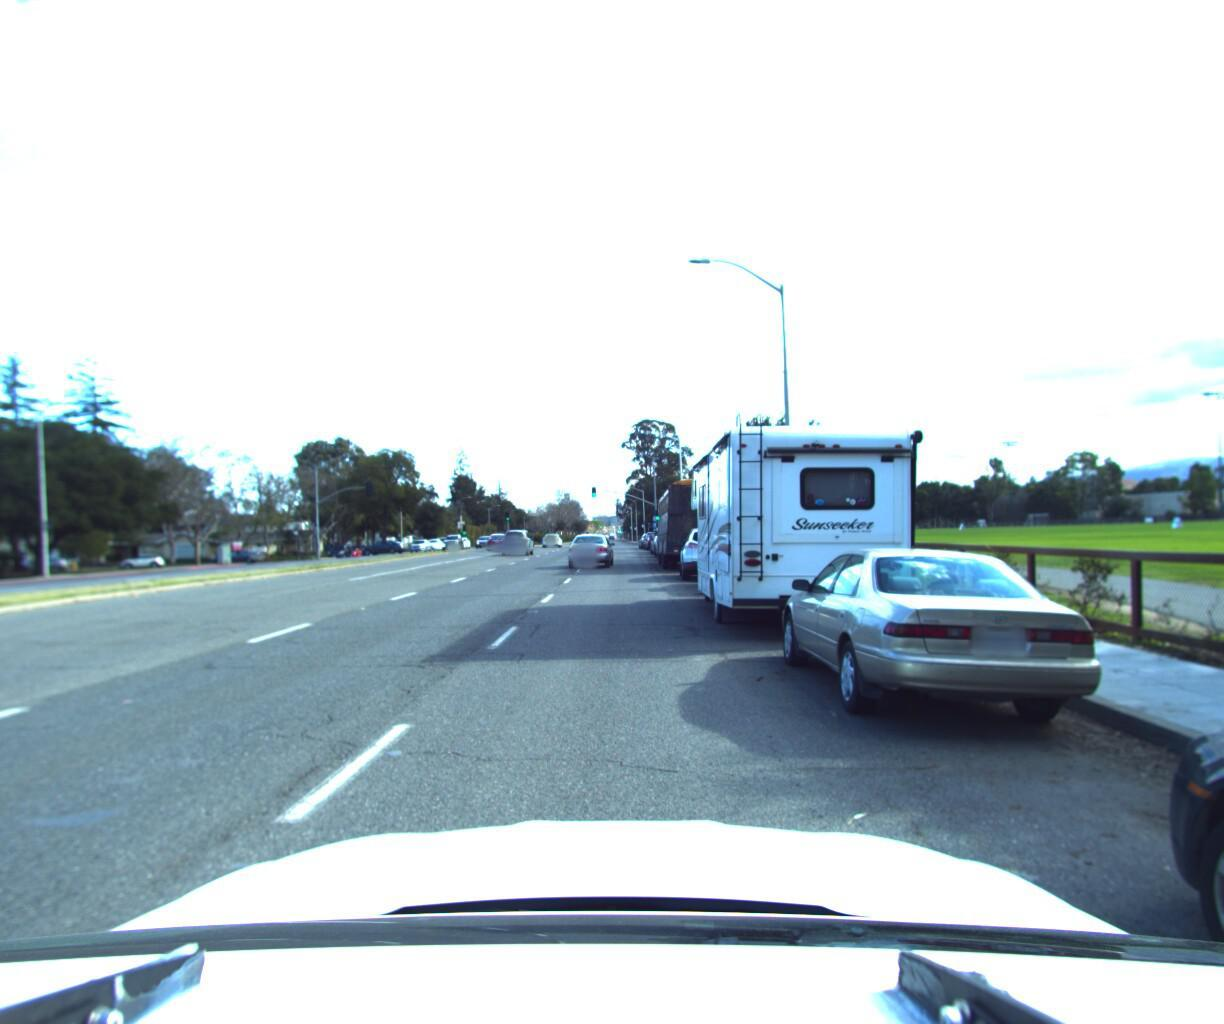bus: (654, 474, 740, 570)
car: (770, 538, 1127, 752), (678, 522, 750, 580), (564, 530, 613, 567), (210, 546, 264, 567), (357, 531, 409, 552), (497, 525, 534, 554), (482, 530, 506, 553), (541, 528, 561, 544)
other_vehicle: (686, 397, 935, 647)
